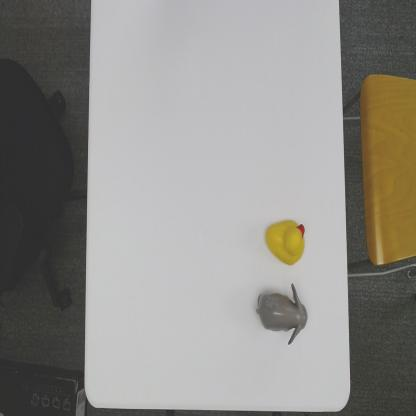Duck: (264, 216, 307, 268)
Elephant: (254, 281, 308, 346)
